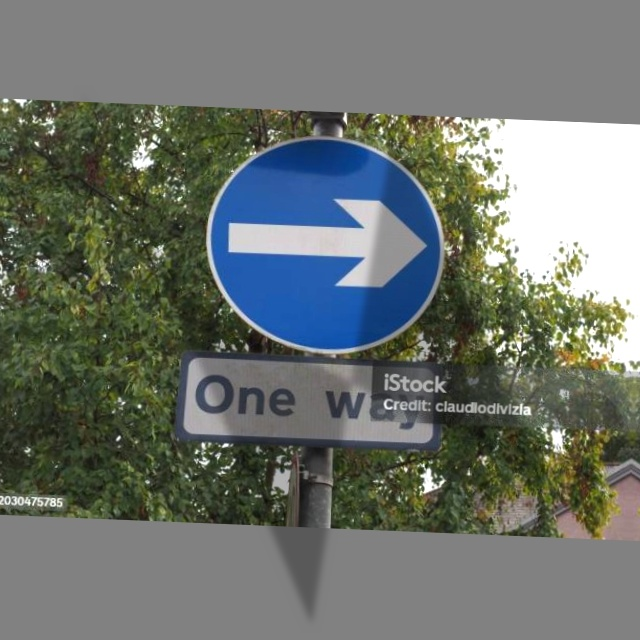Compulsory_Turn_Right: (202, 130, 452, 359)
